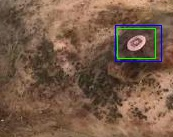text: (117, 28, 155, 58)
